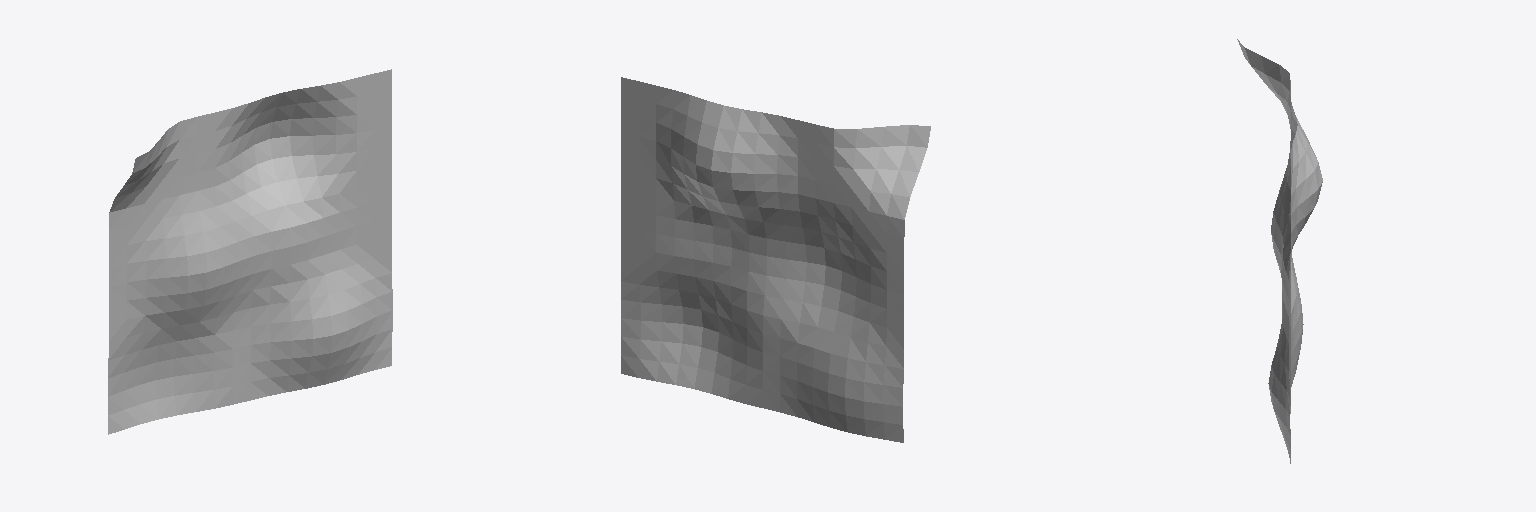
3 views of the same model, side by side, from view 1: azimuth 30°, elevation 25°; view 2: azimuth 150°, elevation 25°; view 3: azimuth 270°, elevation 25° (orthographic).
Parts seen in each view (by area): view 1: Ground; view 2: Ground; view 3: Ground.
Part boxes in pixels (left/top/right/bottom): Ground: left=108, top=69, right=392, bottom=434; Ground: left=621, top=77, right=930, bottom=442; Ground: left=1237, top=39, right=1322, bottom=463.
Bounding box in the file's own units: 30.43 × 30.43 × 8.01.